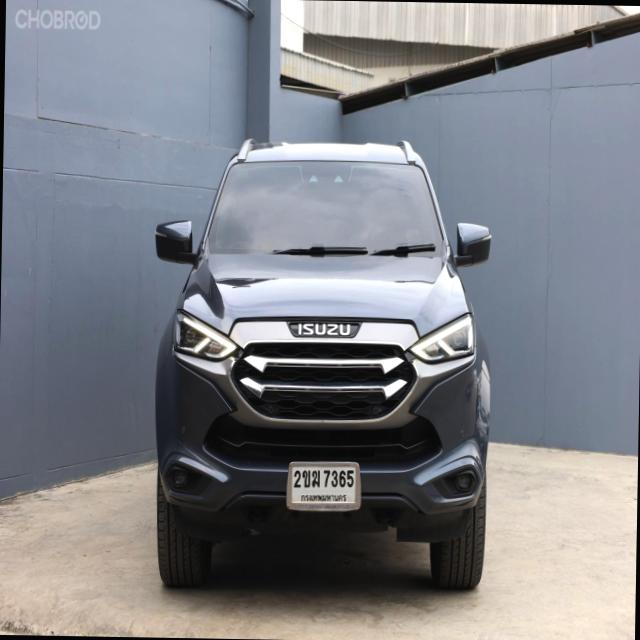license_plate: (282, 452, 365, 518)
